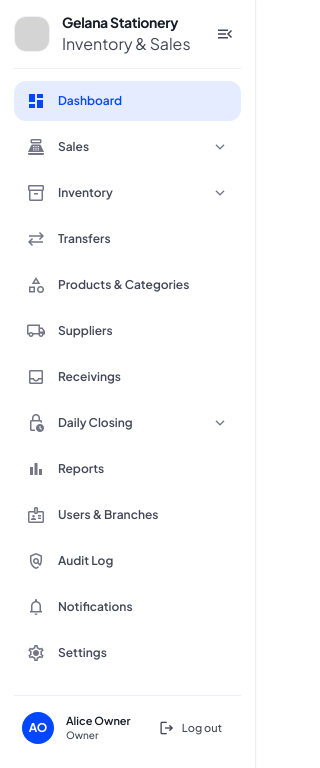
Test: Sidebar Navigation Grouping › renders Sales as an expandable group with New Sale and Sales History
Check: the text "New Sale" is not shown
Check: the text "Sales History" is not shown
# Clicking expands the group
Click the button "Sales" at (128,147), box [14,127,241,167]
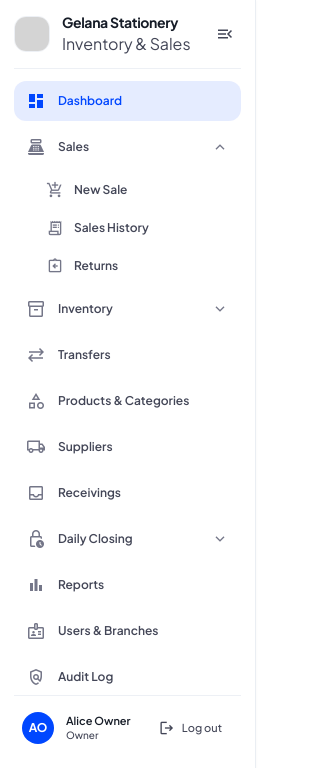
Check: the button "Sales" is expanded
Check: the text "New Sale" is shown, box [74,182,128,198]
Check: the text "Sales History" is shown, box [74,220,149,236]
# Clicking again collapses the group
Click the button "Sales" at (128,147), box [14,127,241,167]
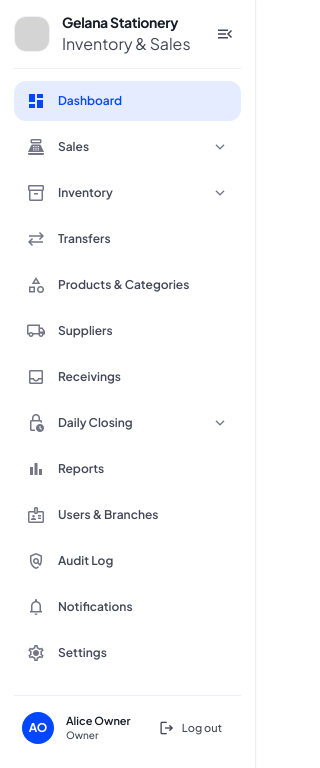
Check: the button "Sales" is collapsed, box [14,127,241,167]
Check: the link "New Sale" is gone
